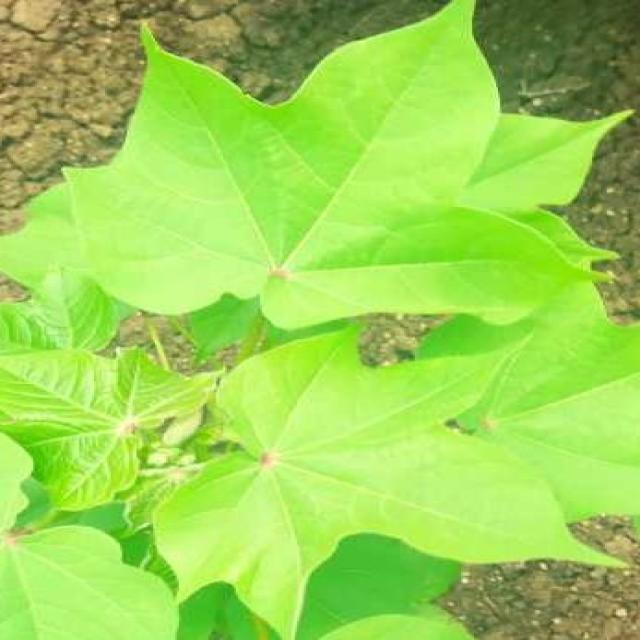Healthy Leaf: (57, 45, 493, 640)
